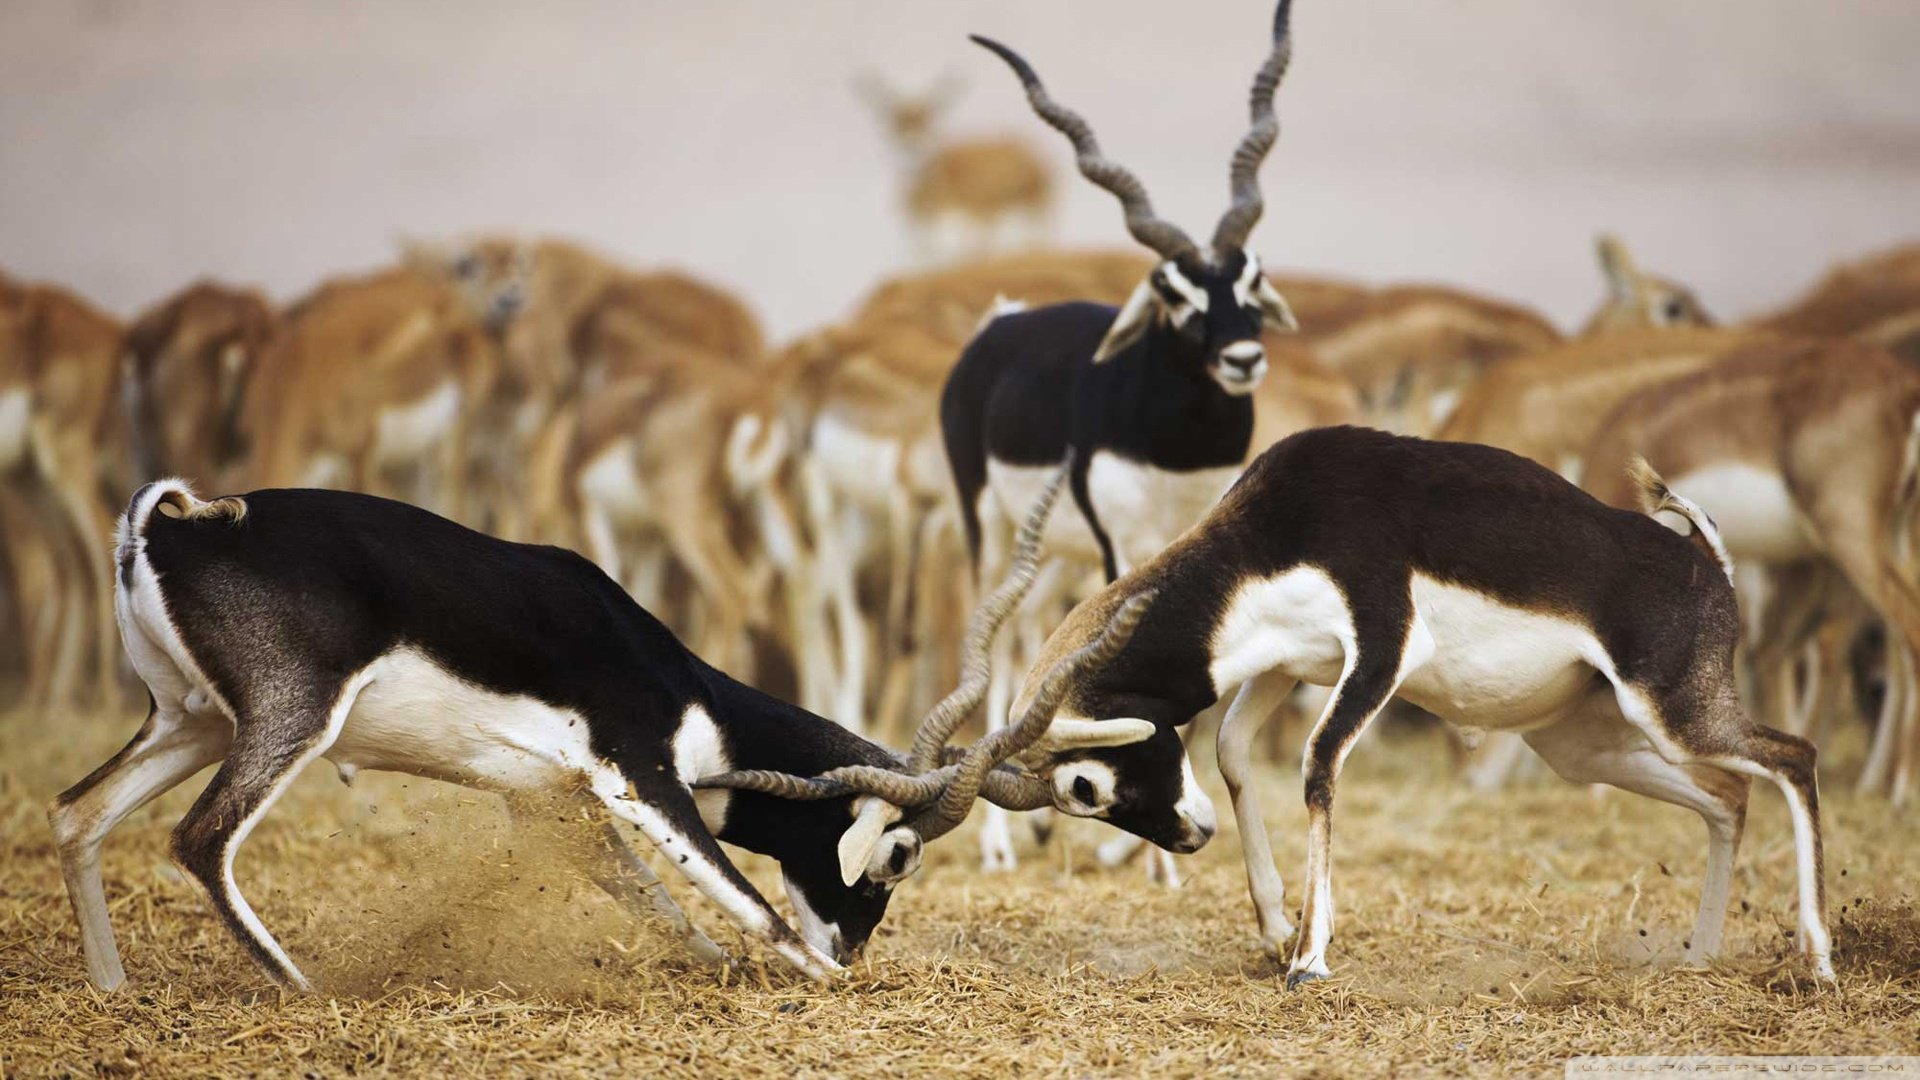Blackbuck: (73, 447, 1007, 1021), (972, 419, 1869, 996), (942, 1, 1302, 910)
